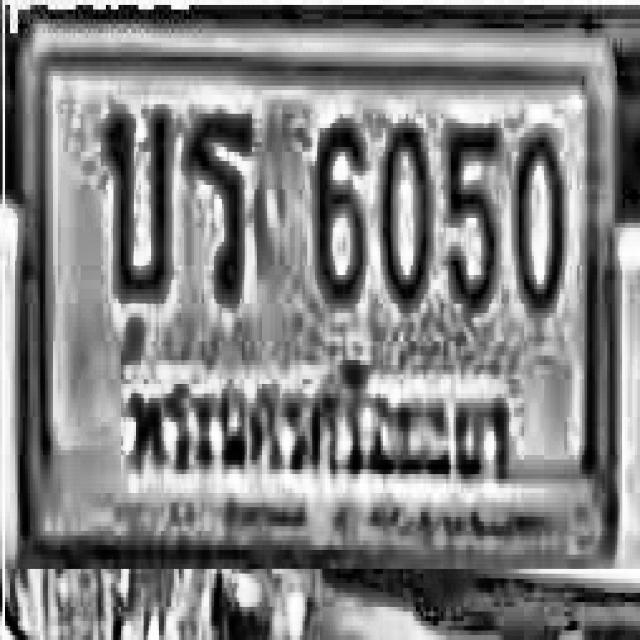license-plate: (20, 22, 620, 566)
